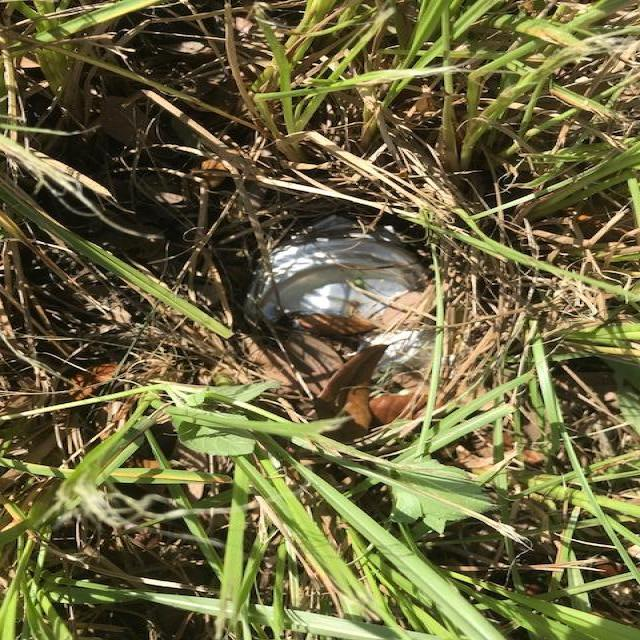litter: (248, 214, 433, 376)
